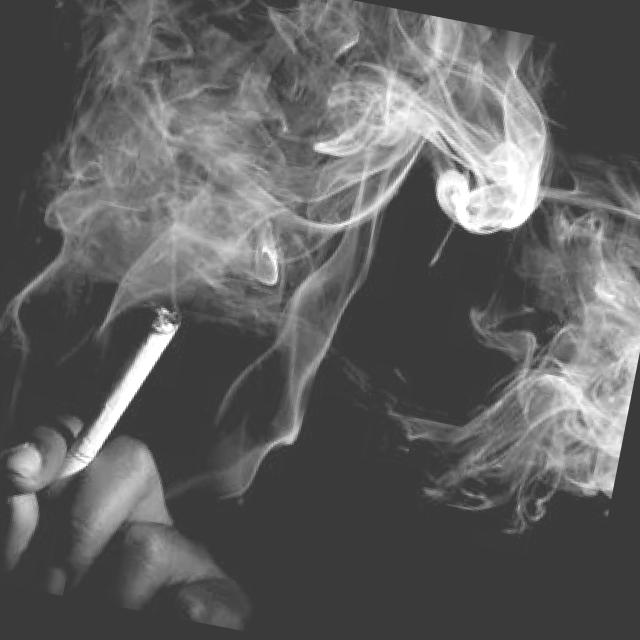smoke: (56, 290, 186, 504)
